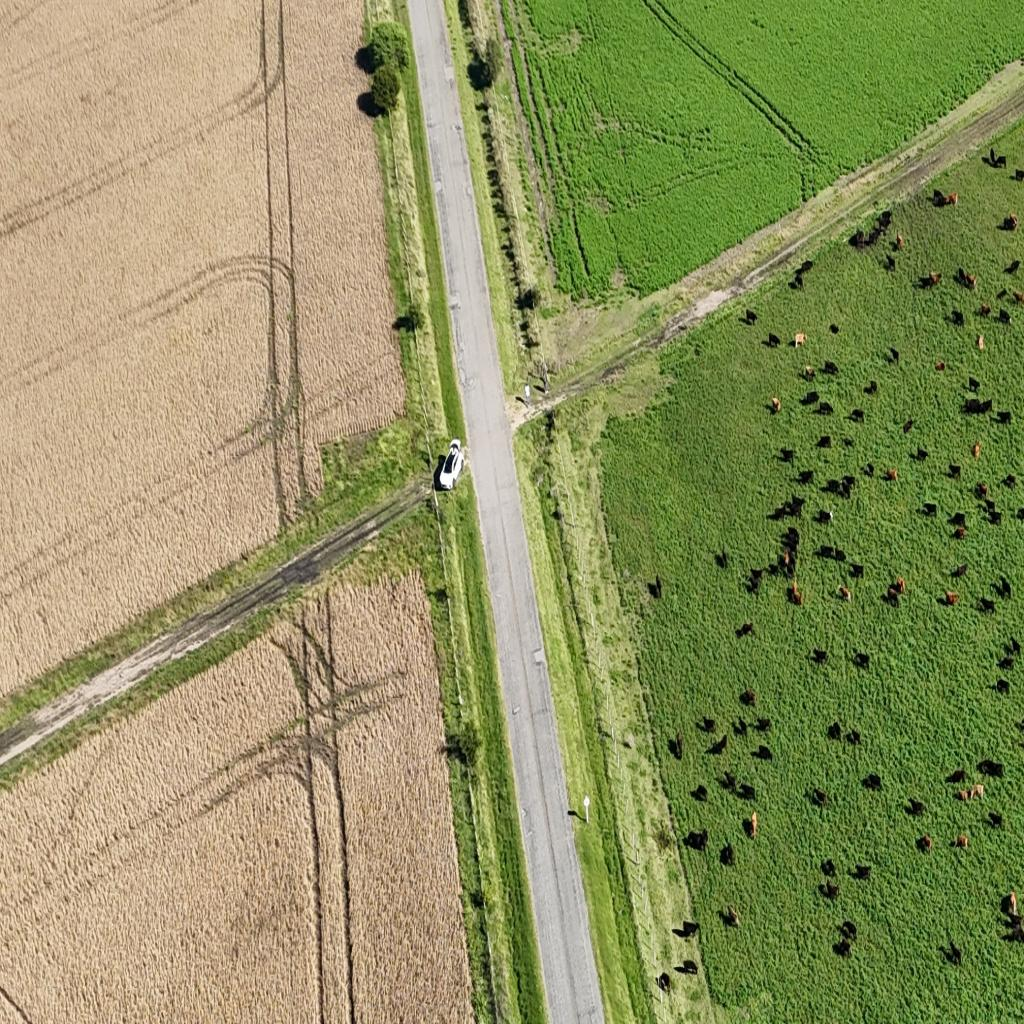cow: (1000, 918, 1024, 945), (977, 758, 1004, 778), (688, 828, 709, 853), (963, 398, 992, 416), (676, 920, 700, 940), (987, 147, 1007, 169), (956, 268, 976, 290), (1001, 893, 1018, 918), (709, 734, 727, 756), (676, 959, 698, 977), (987, 502, 1003, 526), (780, 554, 796, 578), (737, 782, 756, 802), (836, 937, 852, 960), (724, 904, 740, 927), (862, 773, 882, 791), (947, 942, 962, 966), (780, 498, 798, 518), (997, 578, 1013, 600), (655, 971, 671, 993), (947, 768, 967, 785), (823, 880, 840, 900), (840, 920, 857, 940), (826, 478, 846, 495), (721, 843, 735, 867), (746, 812, 758, 840), (690, 784, 708, 802), (908, 798, 926, 816), (852, 651, 870, 669), (853, 863, 872, 880), (648, 575, 662, 598), (820, 857, 836, 877), (867, 228, 883, 248), (768, 506, 788, 522), (698, 716, 716, 733), (784, 527, 800, 546), (980, 597, 997, 614), (740, 689, 756, 707), (796, 260, 814, 276), (748, 568, 764, 586), (1001, 215, 1019, 231), (988, 810, 1004, 828), (720, 772, 736, 790), (817, 545, 835, 561), (1004, 259, 1022, 275), (917, 834, 933, 852), (734, 719, 750, 737), (878, 210, 892, 230), (756, 717, 772, 734), (755, 745, 772, 761), (920, 502, 937, 518), (998, 655, 1015, 671), (996, 678, 1012, 695), (813, 788, 828, 806), (800, 391, 818, 406), (842, 474, 857, 492), (970, 782, 985, 800), (828, 721, 842, 740), (850, 562, 864, 581), (950, 308, 964, 327), (791, 584, 803, 606), (951, 512, 967, 528), (818, 508, 834, 524), (952, 562, 968, 578), (737, 621, 753, 637), (790, 495, 806, 511), (812, 647, 828, 663), (1015, 914, 1024, 942), (715, 550, 728, 569), (847, 730, 862, 746), (996, 410, 1012, 425), (932, 190, 947, 206), (798, 470, 814, 485), (816, 434, 832, 449), (998, 308, 1012, 325), (675, 733, 684, 759), (888, 585, 900, 604), (767, 332, 781, 348), (744, 310, 758, 326), (864, 380, 878, 396), (780, 448, 796, 462), (948, 463, 962, 479), (946, 590, 960, 606), (955, 834, 969, 850), (824, 361, 839, 375), (819, 402, 834, 416), (885, 254, 896, 272), (840, 585, 851, 603), (850, 409, 864, 423), (1004, 473, 1018, 487), (672, 924, 685, 939), (968, 376, 980, 392), (980, 302, 992, 318), (917, 445, 929, 461), (794, 332, 806, 348), (885, 467, 898, 481), (996, 288, 1010, 301), (794, 272, 804, 290), (854, 230, 864, 248), (834, 548, 846, 563), (771, 396, 781, 414), (896, 576, 906, 594), (781, 550, 790, 569), (862, 463, 874, 477), (930, 272, 942, 286), (946, 192, 958, 206), (958, 788, 970, 802), (979, 482, 989, 498), (955, 526, 967, 539), (890, 346, 899, 363), (973, 441, 981, 459), (1016, 636, 1024, 654), (843, 436, 856, 447), (904, 419, 914, 433), (804, 366, 815, 378), (936, 360, 946, 372), (692, 344, 702, 356), (1017, 290, 1024, 306), (830, 323, 840, 334), (897, 233, 903, 250), (978, 334, 984, 351), (1017, 168, 1024, 182), (1019, 508, 1024, 522)
